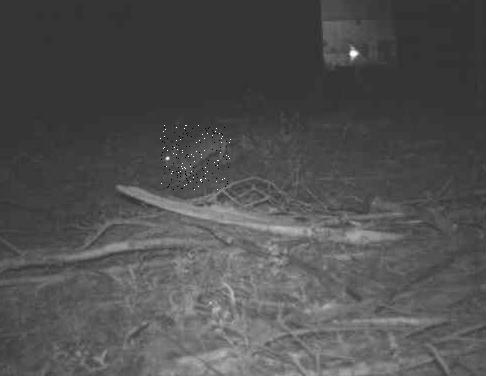Rabbit: (160, 125, 232, 190)
